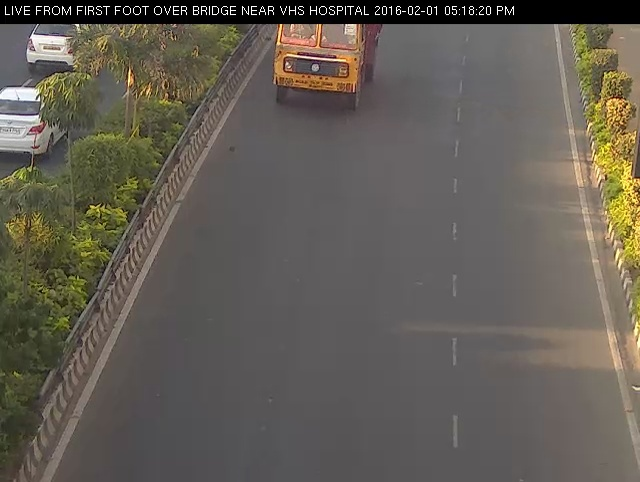Bus: (261, 20, 393, 117)
